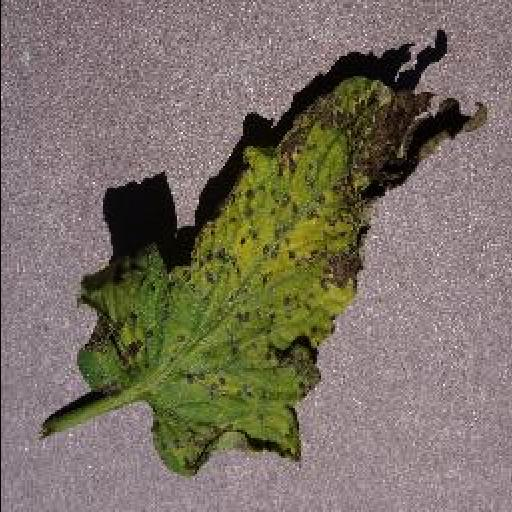disease_tomato: (78, 78, 488, 480)
